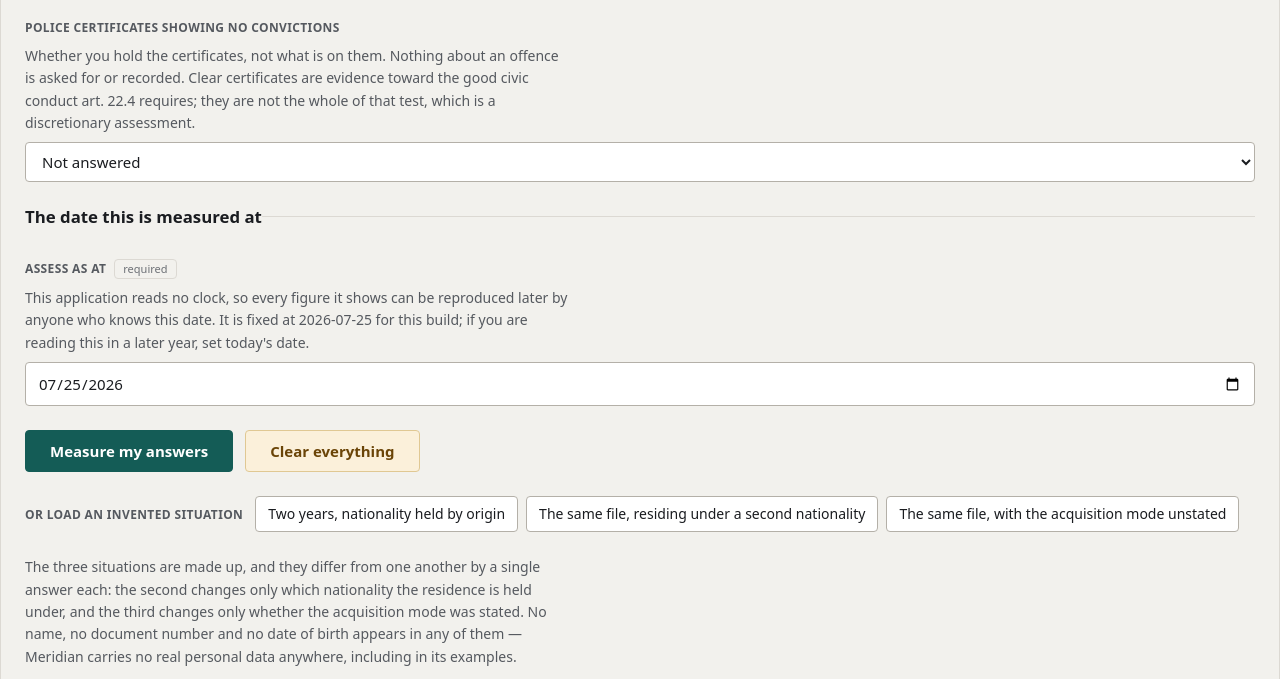
Test case: the three cases, on screen › does not extend the reduction to the same person residing under an Italian passport
The width and height of the screenshot is (1280, 679).
(page scrolled)
Click the button "The same file, residing under a second nationality" at (702, 514), box x1=526 y1=496 x2=878 y2=532
(page scrolled)
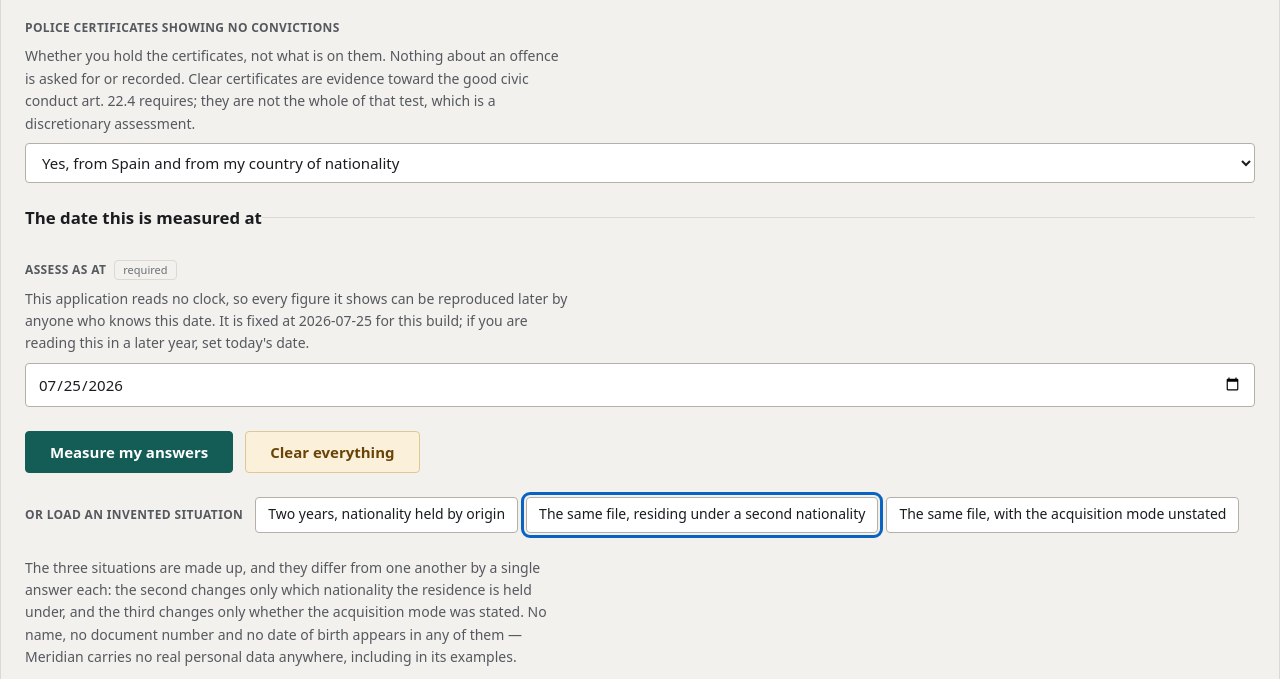
Click the button "Measure my answers" at (129, 452), box x1=25 y1=431 x2=233 y2=473
(page scrolled)
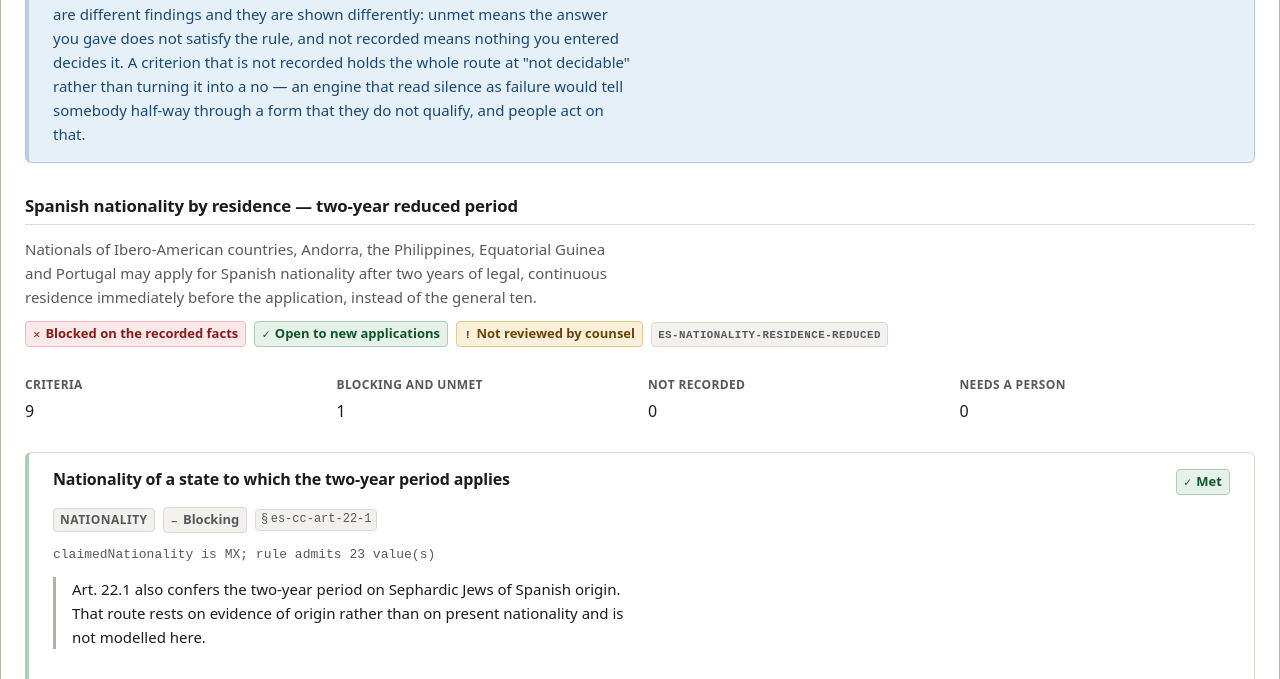
Expected: the text "Blocked on the recorded facts" is shown, x1=45 y1=324 x2=238 y2=343
